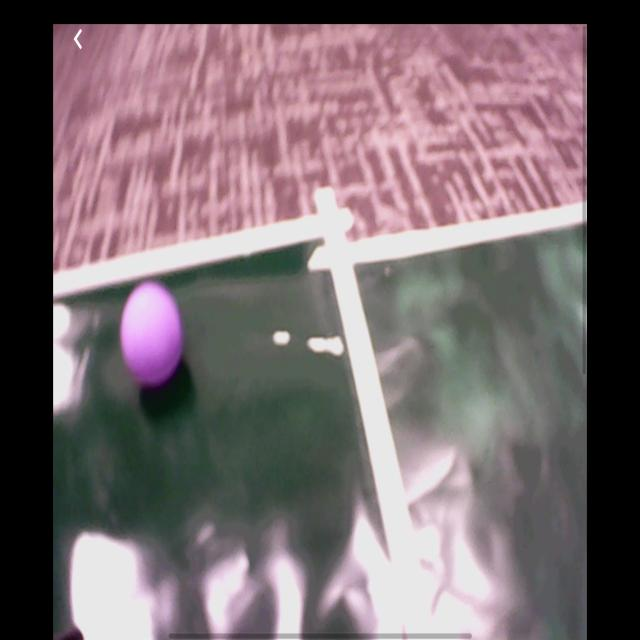ball: (121, 283, 184, 385)
